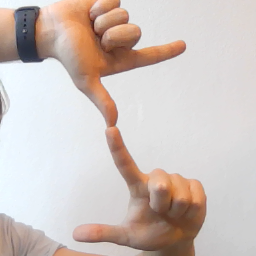Z: (42, 1, 212, 249)
